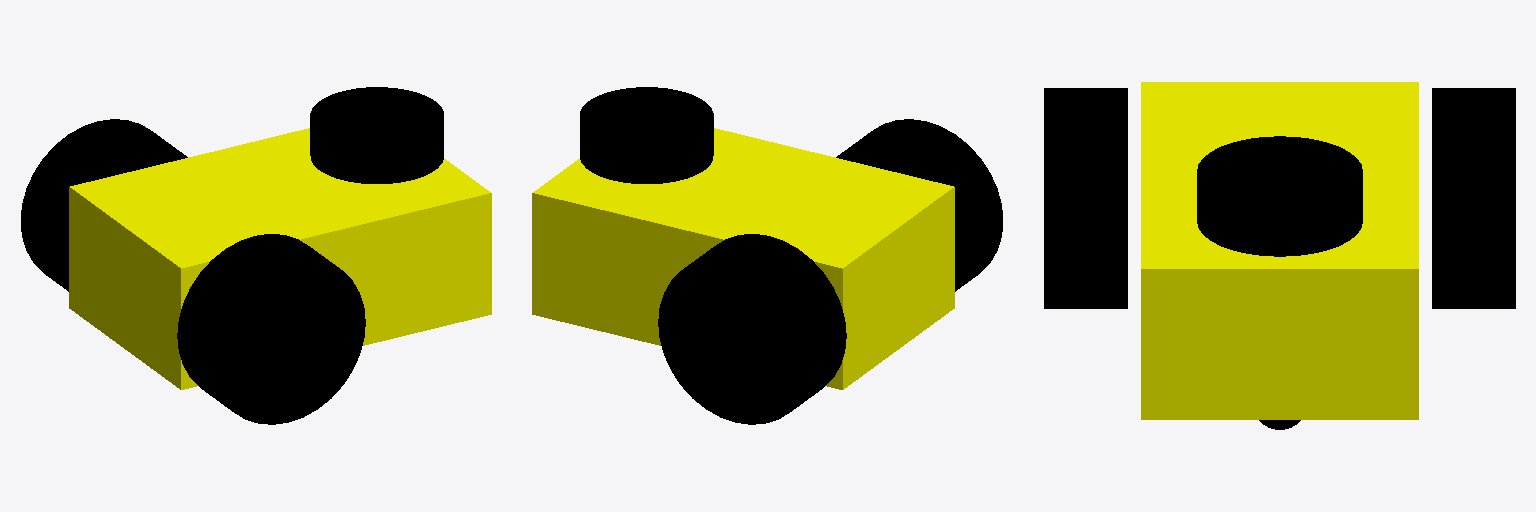
URDF robot description (slam_bot):
<?xml version="1.0"?>
<robot name="slam_bot">
    <gazebo>
        <plugin filename="gz-sim-imu-system"
                name="gz::sim::systems::Imu"/>
    </gazebo>
    <gazebo reference="base_link">
    </gazebo>
    <gazebo reference="chassis">
        <visual>
            <material>
                <ambient>0.9 0.9 0.0 1.0</ambient>
                <diffuse>0.9 0.9 0.0 1.0</diffuse>
                <specular>0.5 0.5 0.5 1.0</specular>
            </material>
        </visual>
    </gazebo>
    <gazebo reference="left_wheel">
        <visual>
            <material>
                <ambient>0.1 0.1 0.1 1.0</ambient>
                <diffuse>0.1 0.1 0.1 1.0</diffuse>
                <specular>0.5 0.5 0.5 1.0</specular>
            </material>
        </visual>
        <mu1>2.0</mu1>
        <mu2>2.0</mu2>
        <kp>1e6</kp>
        <kd>1.0</kd>
        <minDepth>0.001</minDepth>
        <maxVel>1.0</maxVel>
    </gazebo>
    <gazebo reference="right_wheel">
        <visual>
            <material>
                <ambient>0.1 0.1 0.1 1.0</ambient>
                <diffuse>0.1 0.1 0.1 1.0</diffuse>
                <specular>0.5 0.5 0.5 1.0</specular>
            </material>
        </visual>
        <mu1>2.0</mu1>
        <mu2>2.0</mu2>
        <kp>1e6</kp>
        <kd>1.0</kd>
        <minDepth>0.001</minDepth>
        <maxVel>1.0</maxVel>
    </gazebo>
    <gazebo reference="caster_wheel">
        <visual>
            <material>
                <ambient>0.1 0.1 0.1 1.0</ambient>
                <diffuse>0.1 0.1 0.1 1.0</diffuse>
                <specular>0.5 0.5 0.5 1.0</specular>
            </material>
        </visual>
        <mu1>0.01</mu1>
        <mu2>0.01</mu2>
        <kp>1e6</kp>
        <kd>1.0</kd>
    </gazebo>
    <gazebo reference="lidar_link">
         <visual>
            <material>
                <ambient>0.3 0.3 0.3 1.0</ambient>
                <diffuse>0.3 0.3 0.3 1.0</diffuse>
                <specular>0.5 0.5 0.5 1.0</specular>
            </material>
        </visual>
    </gazebo>
    <gazebo reference="imu_link">
        <sensor name = "imu_sensor" type = "imu">
            <always_on>1</always_on>
            <update_rate>10</update_rate>
            <visualize>true</visualize>
            <topic>/imu</topic>
            <gz_frame_id>imu_link</gz_frame_id>         
        </sensor>
    </gazebo>
    <gazebo>
        <plugin filename="gz-sim-sensors-system"
                name="gz::sim::systems::Sensors">
            <render_engine>ogre2</render_engine>
        </plugin>
    </gazebo>
    <gazebo reference="lidar_link">
        <sensor name = "lidar_sensor" type = "gpu_lidar">
            <always_on>1</always_on>
            <update_rate>5</update_rate>
            <visualize>true</visualize>
            <topic>/scan</topic>
            <gz_frame_id>lidar_link</gz_frame_id>         
            <ray>
                <scan>
                    <horizontal>
                        <samples>360</samples>
                        <resolution>1</resolution>
                        <min_angle>-3.14159</min_angle>
                        <max_angle>3.14159</max_angle>
                    </horizontal>
                    <vertical>
                        <samples>1</samples>
                        <resolution>0.01</resolution>
                        <min_angle>0</min_angle>
                        <max_angle>0</max_angle>
                    </vertical>
                </scan>
                <range>
                    <min>0.02</min>
                    <max>10.0</max>
                    <resolution>0.01</resolution>
                </range>
            </ray>
        </sensor>
    </gazebo>
    <link name = "lidar_link">
        <visual>
            <geometry>
                <cylinder length="0.02" radius="0.03"/>
            </geometry>
            <material name="black">
                <color rgba="0 0 0 1"/>
            </material>
        </visual>
        <inertial>
            <mass value="0.01"/>
            <origin xyz="0 0 0"/>
            <inertia ixx="1e-6" ixy="0" ixz="0" iyy="1e-6" iyz="0" izz="1e-6"/>
        </inertial>
    </link>
    <joint name="lidar_joint" type="fixed">
        <parent link="chassis"/>
        <child link="lidar_link"/>
        <origin xyz="0.05 0 0.045" rpy="0 0 0"/>
    </joint>
    <gazebo>
        <plugin filename="gz-sim-diff-drive-system" name="gz::sim::systems::DiffDrive">
            <left_joint>left_wheel_joint</left_joint>
            <right_joint>right_wheel_joint</right_joint>
            <wheel_separation>0.14</wheel_separation>
            <wheel_radius>0.04</wheel_radius>
            <odom_publish_frequency>10</odom_publish_frequency>
            <publish_odom>true</publish_odom>
            <publish_odom_tf>true</publish_odom_tf> 
            <topic>/cmd_vel</topic>
            <odom_topic>/odom</odom_topic>
            <frame_id>odom</frame_id>
            <tf_topic>/tf</tf_topic>
            <child_frame_id>base_link</child_frame_id>
            <max_linear_acceleration>1</max_linear_acceleration>
            <min_linear_acceleration>-1</min_linear_acceleration>
            <max_angular_acceleration>2</max_angular_acceleration>
            <min_angular_acceleration>-2</min_angular_acceleration>
            <max_linear_velocity>2.0</max_linear_velocity>
            <min_linear_velocity>-2.0</min_linear_velocity>
            <max_angular_velocity>1</max_angular_velocity>
            <min_angular_velocity>-1</min_angular_velocity>
        </plugin>
    </gazebo>
    <gazebo>
        <plugin
            filename="gz-sim-pose-publisher-system"
            name="gz::sim::systems::PosePublisher">
        
            <publish_link_pose>true</publish_link_pose>

            <publish_nested_model_pose>true</publish_nested_model_pose>
        
            <update_rate>50</update_rate>
            <static_publisher>true</static_publisher>
            <use_pose_vector_msg>true</use_pose_vector_msg>
            <static_update_frequency>10</static_update_frequency>
        </plugin>
    </gazebo>
    
    <gazebo>
        <plugin filename="gz-sim-joint-state-publisher-system" name="gz::sim::systems::JointStatePublisher">
            <topic>/joint_states</topic>
            <joint_name>left_wheel_joint</joint_name>
            <joint_name>right_wheel_joint</joint_name>
        </plugin>
    </gazebo>

    <link name = "base_link"/>

    <link name = "chassis">
        <visual>
            <geometry>
                <box size="0.16 0.1 0.06"/>
            </geometry>
            <material name="yellow">
                <color rgba="1 1 0 1"/>
            </material>
        </visual>
        <collision>
            <geometry>
                <box size="0.16 0.1 0.06"/>
            </geometry>
        </collision>
        <inertial>
            <mass value="1"/>
            <origin xyz="0 0 0"/>
            <inertia ixx="0.0011333" ixy="0" ixz="0" iyy="0.0024333" iyz="0" izz="0.0029667"/>
        </inertial>
    </link>
    <joint name="chassis_joint" type="fixed">
        <parent link="base_link"/>
        <child link="chassis"/>
        <origin xyz="0 0 0.04"/>
    </joint>
    <link name = "left_wheel">
        <visual>
            <geometry>
                <cylinder length="0.03" radius="0.04"/>
            </geometry>
            <material name="black">
                <color rgba="0 0 0 1"/>
            </material>
            <origin xyz="0 0 0" rpy="1.5708 0 0"/>
        </visual>
        <collision>
            <geometry>
                <cylinder length="0.03" radius="0.04"/>
            </geometry>
            <origin xyz="0 0 0" rpy="1.5708 0 0"/>
        </collision>
        
        <inertial>
            <mass value="0.2"/>
            <origin xyz="0 0 0"/>
            <inertia ixx="0.000095" ixy="0" ixz="0" iyy="0.00016" iyz="0" izz="0.000095"/>
        </inertial>
    </link>
    <joint name="left_wheel_joint" type="continuous">
        <parent link="chassis"/>
        <child link="left_wheel"/>
        <origin xyz="-0.045 0.07 0" rpy="0 0 0"/>
        <axis xyz="0 1 0"/>
    </joint>
    <link name = "right_wheel">
        <visual>
            <geometry>
                <cylinder length="0.03" radius="0.04"/>
            </geometry>
            <material name="black">
                <color rgba="0 0 0 1"/>
            </material>
            <origin xyz="0 0 0" rpy="1.5708 0 0"/>
        </visual>
        <collision>
            <geometry>
                <cylinder length="0.03" radius="0.04"/>
            </geometry>
            <origin xyz="0 0 0" rpy="1.5708 0 0"/>
        </collision>
        
        <inertial>
            <mass value="0.2"/>
            <origin xyz="0 0 0"/>
            <inertia ixx="0.000095" ixy="0" ixz="0" iyy="0.00016" iyz="0" izz="0.000095"/>
        </inertial>
    </link>
    <joint name="right_wheel_joint" type="continuous">
        <parent link="chassis"/>
        <child link="right_wheel"/>
        <origin xyz="-0.045 -0.07 0" rpy="0 0 0"/>
        <axis xyz="0 1 0"/>
    </joint>
    <link name = "caster_wheel">
        <visual>
            <geometry>
                <sphere radius="0.01"/>
            </geometry>
            <material name="black">
                <color rgba="0 0 0 1"/>
            </material>
            <origin xyz="0 0 0" rpy="0 0 0"/>
        </visual>
        <collision>
            <geometry>
                <sphere radius="0.01"/>
            </geometry>
            <origin xyz="0 0 0" rpy="0 0 0"/>
        </collision>
        <inertial>
            <mass value="0.1"/>
            <origin xyz="0 0 0"/>
            <inertia ixx="0.000006667" ixy="0" ixz="0" iyy="0.000006667" iyz="0" izz="0.000006667"/>
        </inertial>
    </link>
    <joint name="caster_wheel_joint" type="fixed">
        <parent link="chassis"/>
        <child link="caster_wheel"/>
        <origin xyz="0.065 0 -0.03" rpy="0 0 0"/>
    </joint>
    <link name = "imu_link">
        <inertial>
            <mass value="0.01"/>
            <origin xyz="0 0 0"/>
            <inertia ixx="1e-6" ixy="0" ixz="0" iyy="1e-6" iyz="0" izz="1e-6"/>
        </inertial>
    </link>
    <joint name="imu_joint" type="fixed">
        <parent link="chassis"/>
        <child link="imu_link"/>
        <origin xyz="0 0 0" rpy="0 0 0"/>
    </joint>
</robot>

--- What the picture shows (computed from the rendered views, not written in the file) ---
3 views of the same robot in one strip: view 1: azimuth 30°, elevation 25°; view 2: azimuth 150°, elevation 25°; view 3: azimuth 270°, elevation 25° (orthographic).
Model slam_bot with 7 links and 6 joints (2 continuous, 4 fixed), rooted at base_link, posed all joints at 0.
Links seen in each view (by area): view 1: chassis, right_wheel, lidar_link, left_wheel; view 2: chassis, left_wheel, lidar_link, right_wheel; view 3: chassis, left_wheel, right_wheel, lidar_link.
Boxes of the visible links, <box> form: chassis: <box>69,128,491,389</box>; right_wheel: <box>177,234,365,424</box>; lidar_link: <box>310,87,443,183</box>; left_wheel: <box>21,119,187,291</box>; chassis: <box>532,128,954,389</box>; left_wheel: <box>658,234,846,424</box>; lidar_link: <box>580,87,713,183</box>; right_wheel: <box>836,119,1002,291</box>; chassis: <box>1141,82,1418,419</box>; left_wheel: <box>1432,88,1515,308</box>; right_wheel: <box>1044,88,1127,308</box>; lidar_link: <box>1197,136,1362,256</box>.
Bounding box of the posed robot: 0.165 × 0.17 × 0.095 m (x, y, z).
Geometry: primitives only (box / cylinder / sphere), no mesh files.
